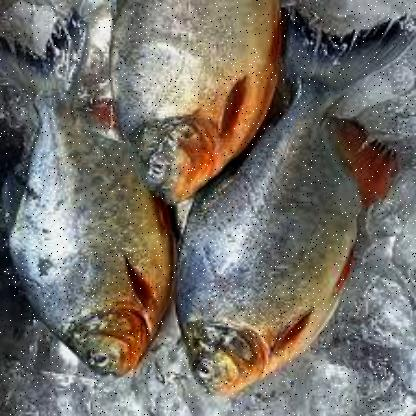ikan-pacu: (185, 43, 401, 388), (6, 61, 170, 373), (108, 0, 278, 184)
